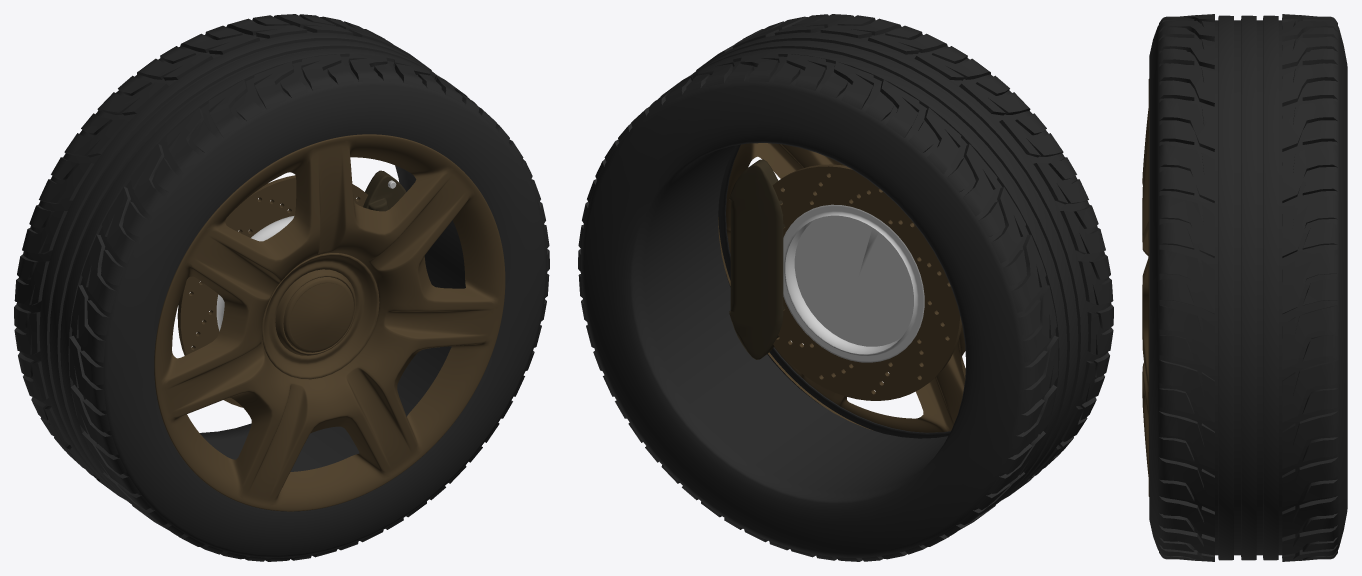
Rendered from rollsroysghostwheel.glb.
3 views of the same model, side by side, from view 1: azimuth 30°, elevation 25°; view 2: azimuth 150°, elevation 25°; view 3: azimuth 270°, elevation 25° (orthographic). The views are drawn at different scales.
Visible parts, largest first — view 1: Wheels; view 2: Wheels; view 3: Wheels.
Part boxes in pixels (bbox=[...]): Wheels: bbox=[14, 14, 549, 561]; Wheels: bbox=[578, 14, 1113, 561]; Wheels: bbox=[1142, 14, 1347, 561].
Bounding box in the file's own units: 0.7186 × 0.7202 × 0.2697.
6 materials, 2 textured.
